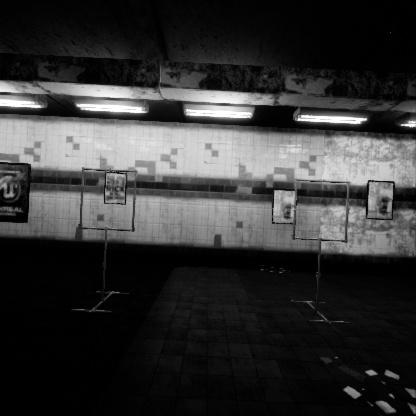gate: (79, 183, 142, 248), (293, 173, 355, 237)
